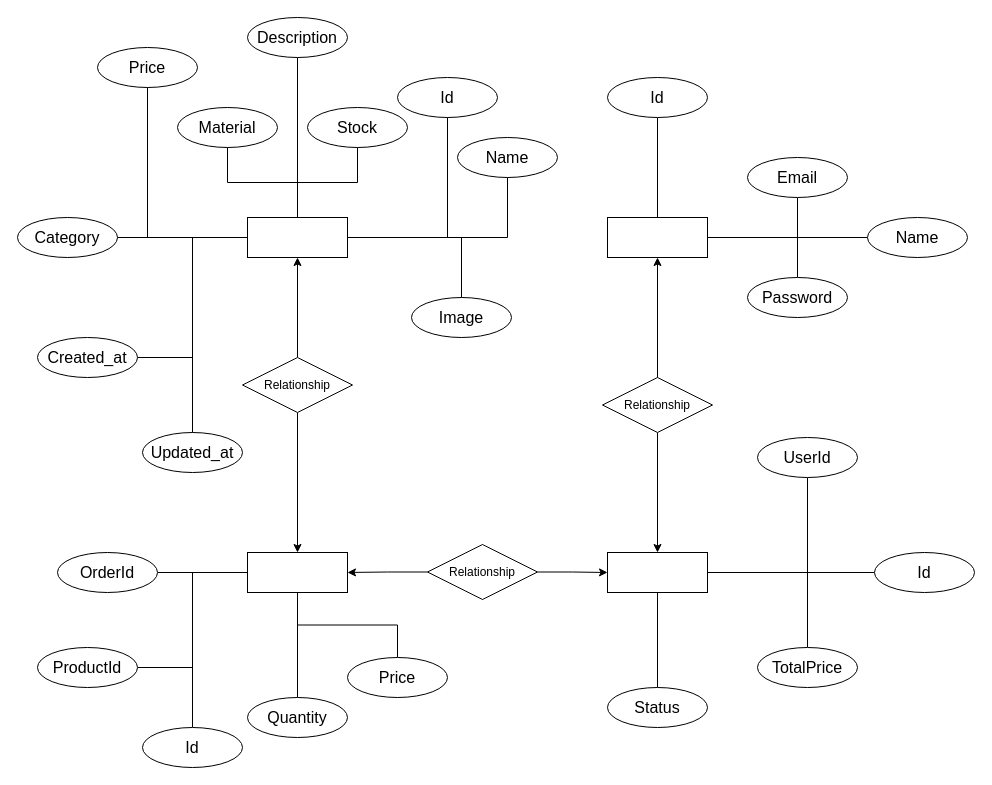
Some shapes in this 992 by 785 pixel diagram are drawn without their labels. Here are the shapes that lost their labels. From the top down, the centre of each, then its label:
At pixel 297 237: "Product".
At pixel 657 237: "Users".
At pixel 297 572: "OrderItems".
At pixel 657 572: "Orders".
